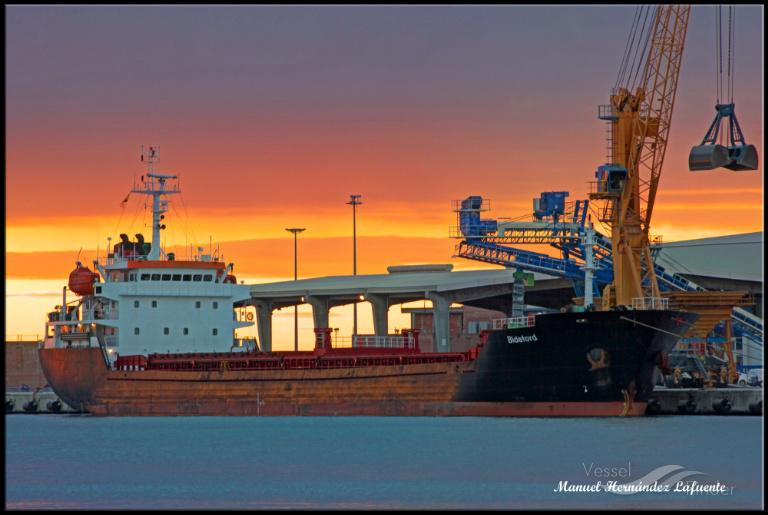OCR: (504, 328, 542, 349)
